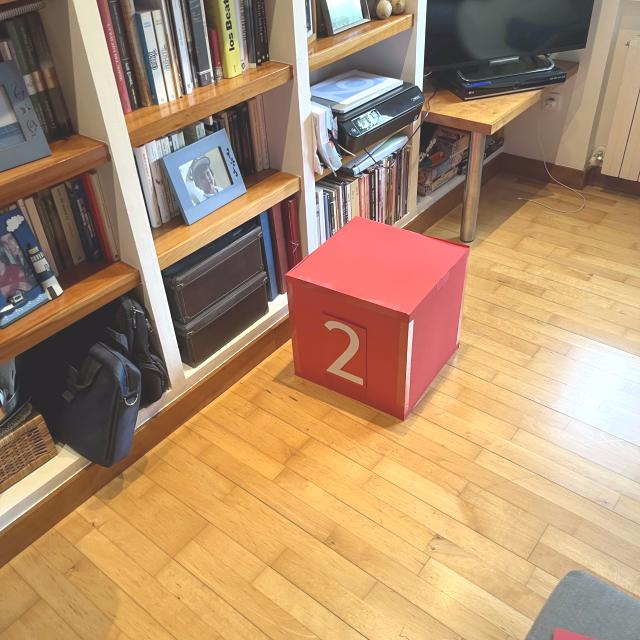box: (281, 212, 473, 422)
